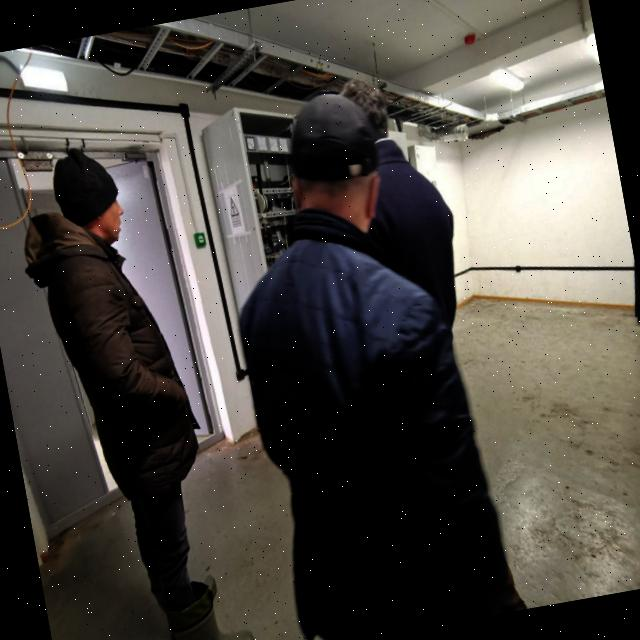NoHelmet: (274, 84, 394, 248), (49, 141, 132, 254), (333, 74, 394, 147)
